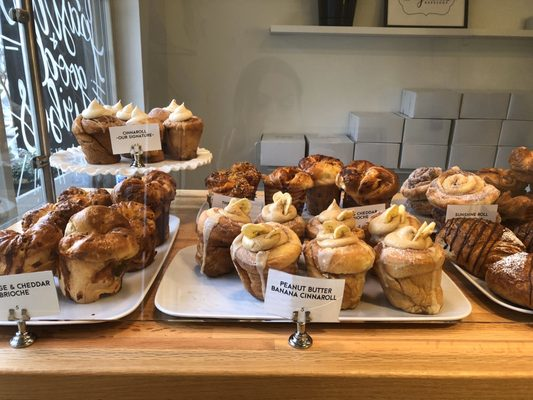soup: (55, 204, 152, 305)
